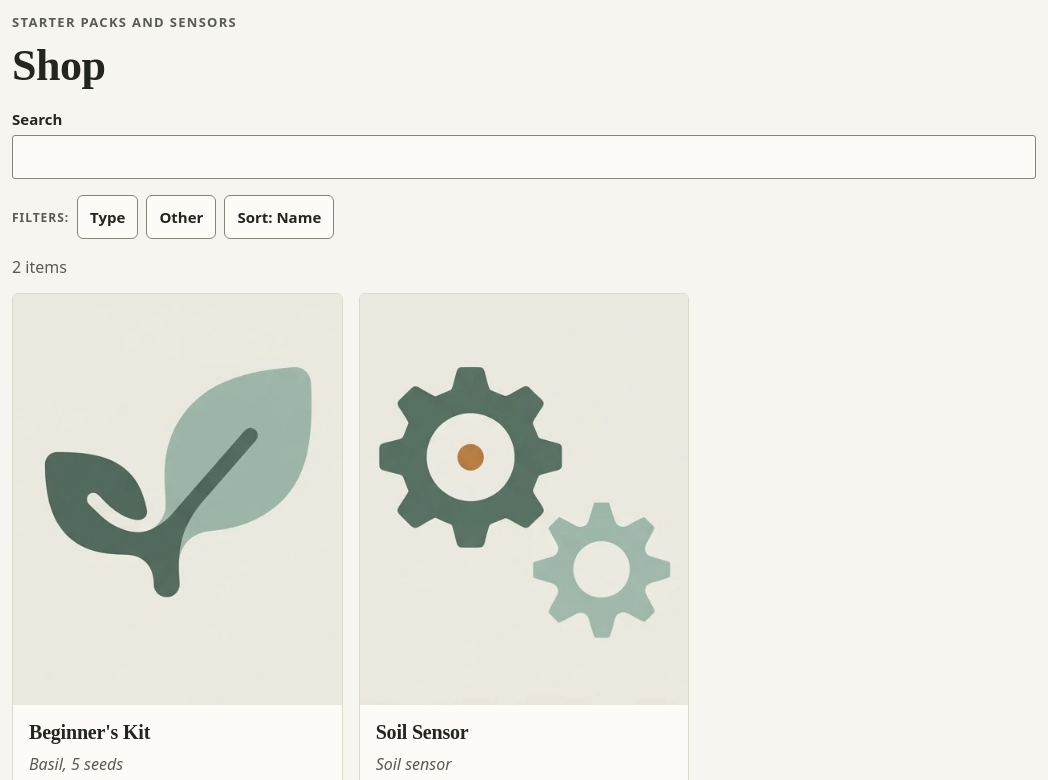
Test case: CatalogPage › filters by a ticked need, counts it and clears it
Check: the heading "Soil Sensor" is shown, box x1=376 y1=721 x2=468 y2=743
Click the button "Other".
click(181, 217)  # box x1=146 y1=195 x2=216 y2=239
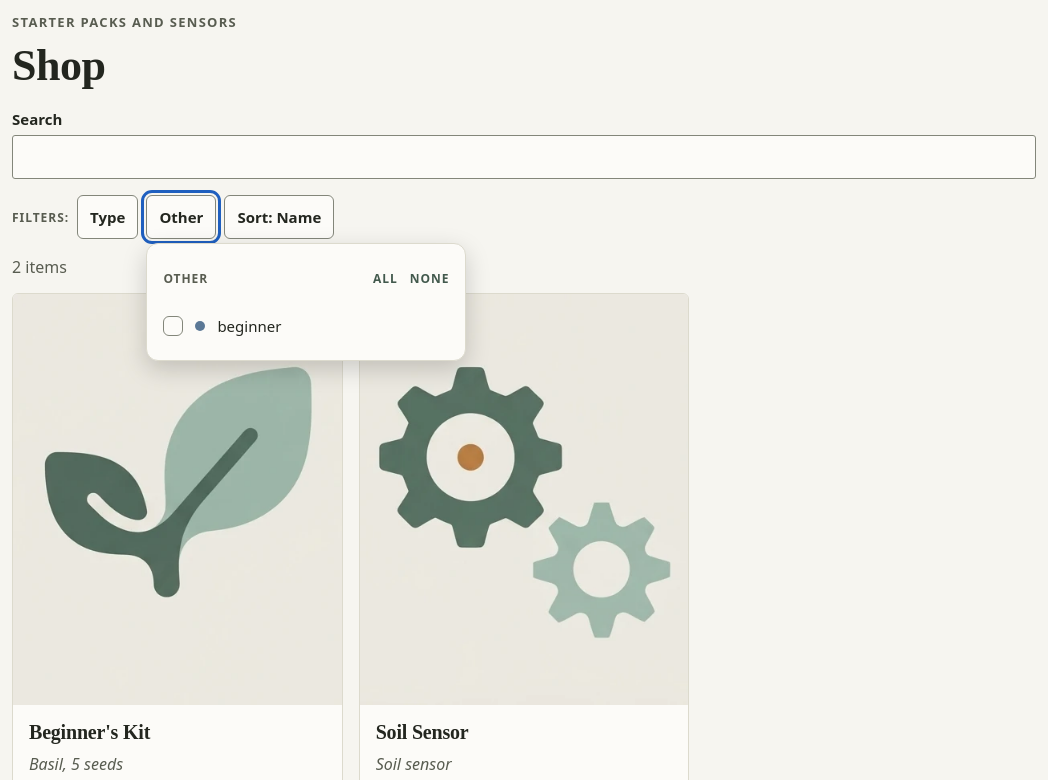
Click the checkbox labelled "beginner".
click(222, 326)  # box x1=163 y1=316 x2=281 y2=336
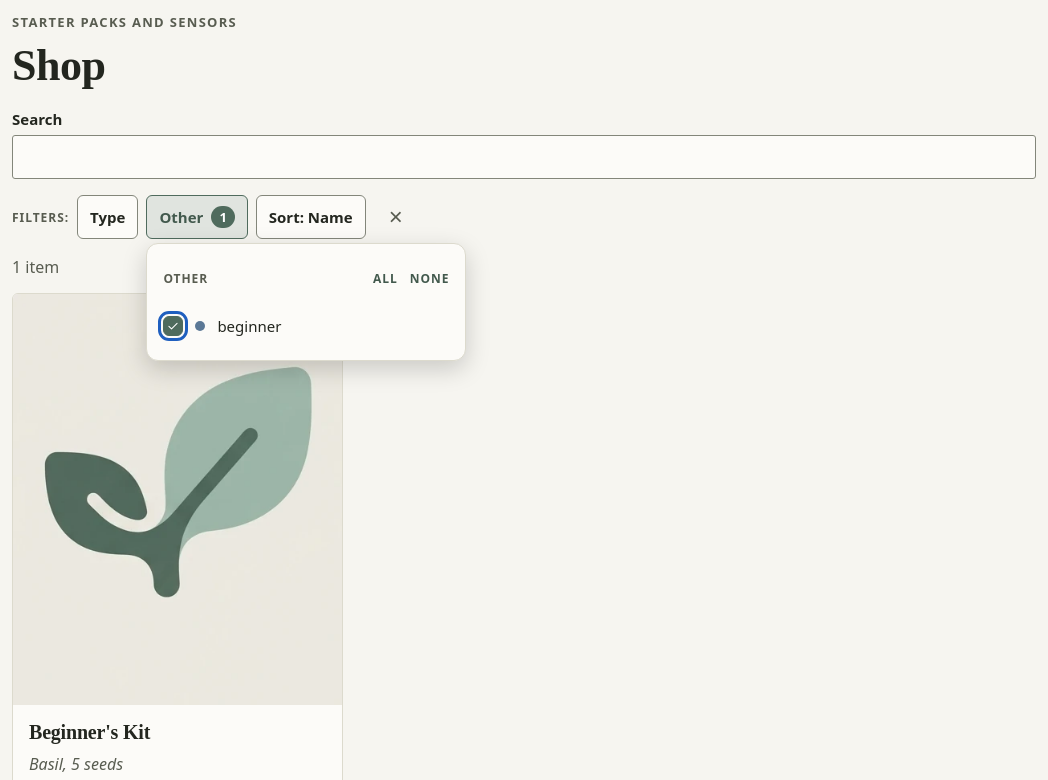
Check: the checkbox labelled "beginner" is checked, box x1=163 y1=316 x2=281 y2=336
Check: the button "Other 1" is shown, box x1=146 y1=195 x2=248 y2=239
Check: the link "Soil Sensor" is gone
Click the button named "Clear filters".
click(396, 217)  # box x1=374 y1=195 x2=418 y2=239
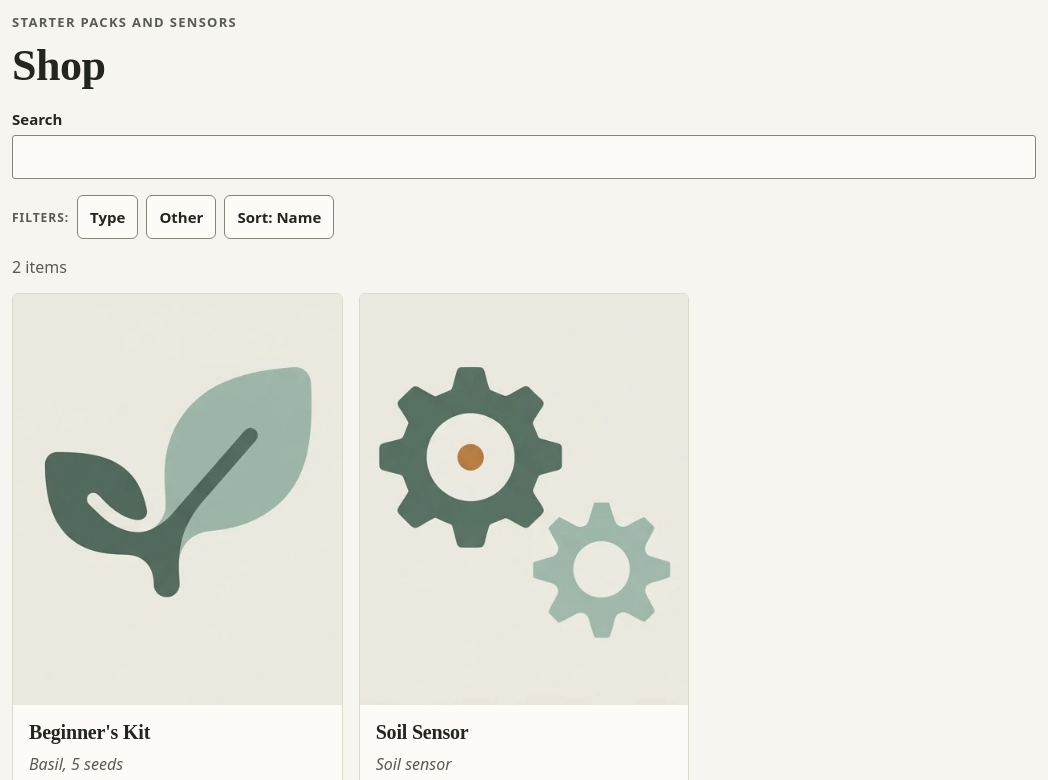
Check: the button "Other" is shown, box x1=146 y1=195 x2=216 y2=239
Check: the heading "Soil Sensor" is shown, box x1=376 y1=721 x2=468 y2=743
